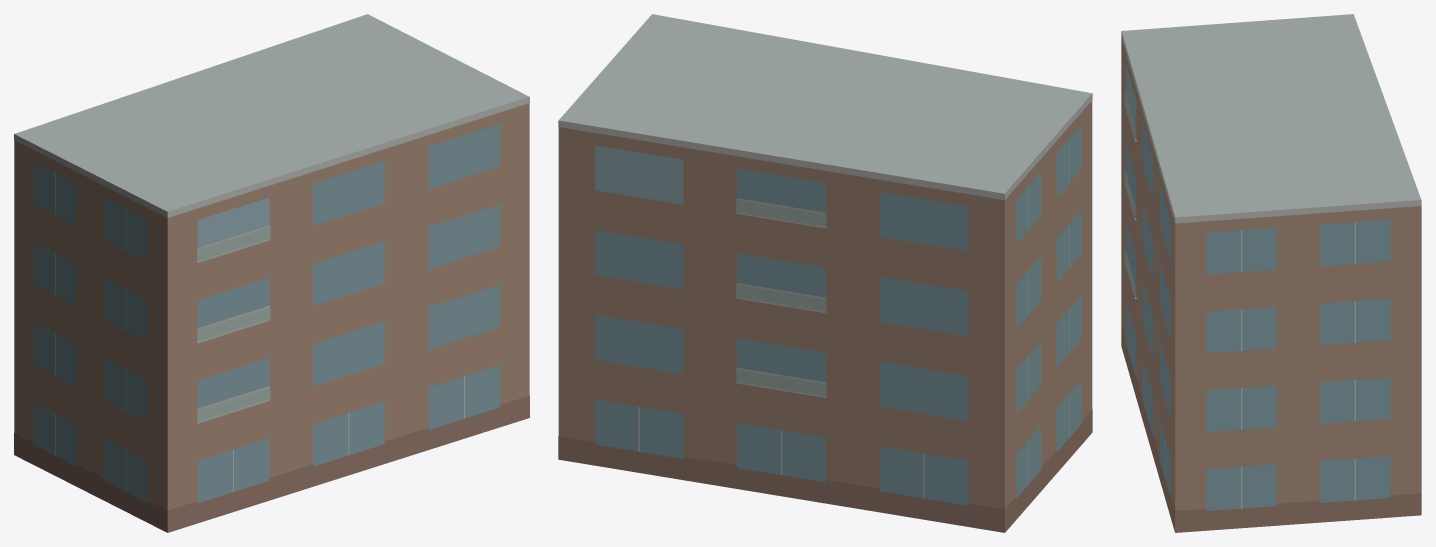
The model's file is survey-upis-32564835.glb.
3 views of the same model, side by side, from view 1: azimuth 30°, elevation 25°; view 2: azimuth 150°, elevation 25°; view 3: azimuth 270°, elevation 25° (orthographic). The views are drawn at different scales.
Visible parts, largest first — view 1: survey-upis-32564835.tmp; view 2: survey-upis-32564835.tmp; view 3: survey-upis-32564835.tmp.
Part boxes in pixels (x1,y1,x2,y2): survey-upis-32564835.tmp: (14, 14, 529, 532); survey-upis-32564835.tmp: (558, 14, 1092, 532); survey-upis-32564835.tmp: (1121, 14, 1421, 532).
Bounding box in the file's own units: 17.73 × 12.8 × 11.05.
